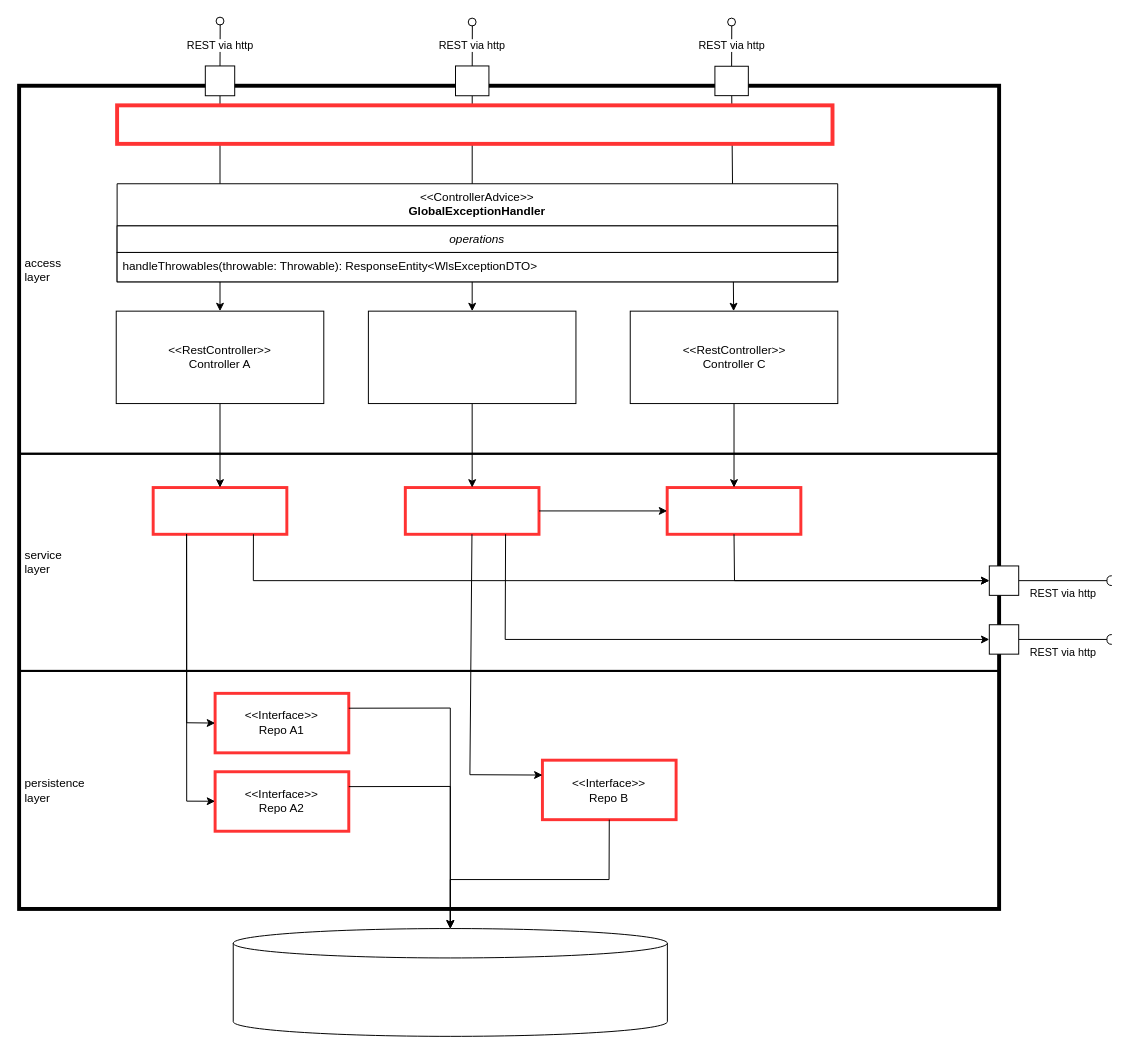
This 1129x1054 diagram has some shape labels left out. Here are the shapes that lost their labels. From the top down, the centre of each, then its label:
At (x=474, y=124): "verify authentication".
At (x=471, y=357): "<<RestController>> Controller B".
At (x=219, y=510): "<< Service>> Service A".
At (x=471, y=510): "<<Service>> Service B".
At (x=733, y=510): "<<Service>> Service C".
At (x=449, y=982): "SQL DB".
